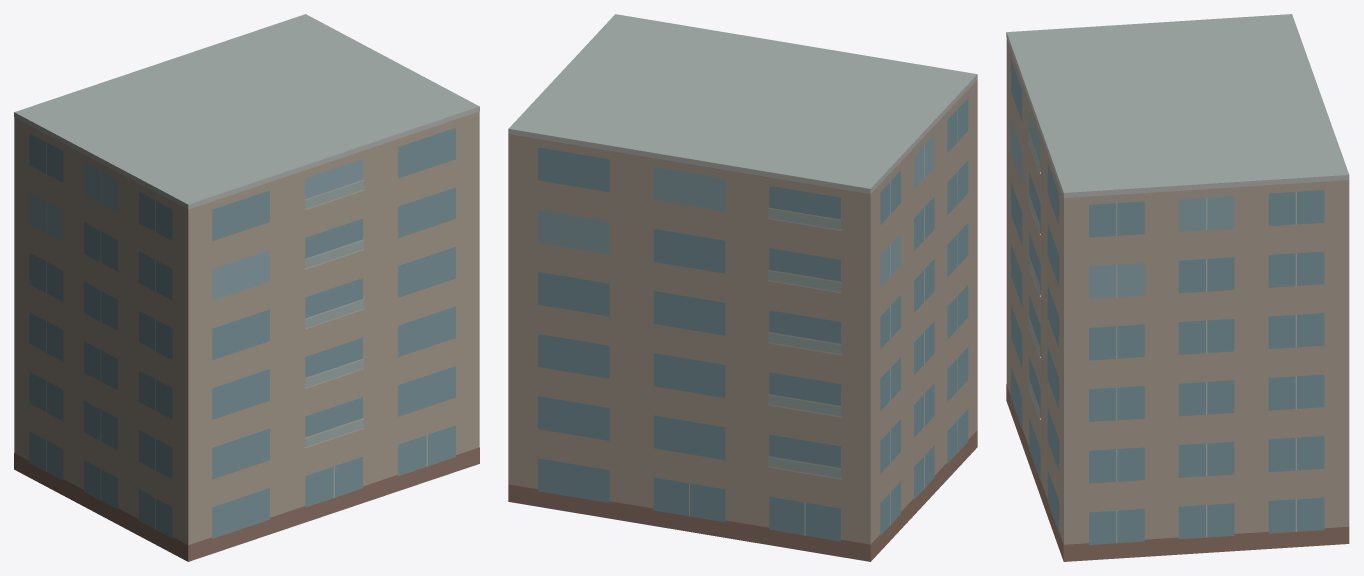
Rendered from survey-upis-32738764.glb.
The picture shows the model from 3 angles, left to right: view 1: azimuth 30°, elevation 25°; view 2: azimuth 150°, elevation 25°; view 3: azimuth 270°, elevation 25°; orthographic projection. The views are drawn at different scales.
Parts seen in each view (by area): view 1: survey-upis-32738764.tmp; view 2: survey-upis-32738764.tmp; view 3: survey-upis-32738764.tmp.
Part boxes in pixels (x1,y1,x2,y2): survey-upis-32738764.tmp: [14, 14, 479, 561]; survey-upis-32738764.tmp: [508, 14, 977, 561]; survey-upis-32738764.tmp: [1006, 14, 1349, 561].
Bounding box in the file's own units: 18 × 17.3 × 14.58.
